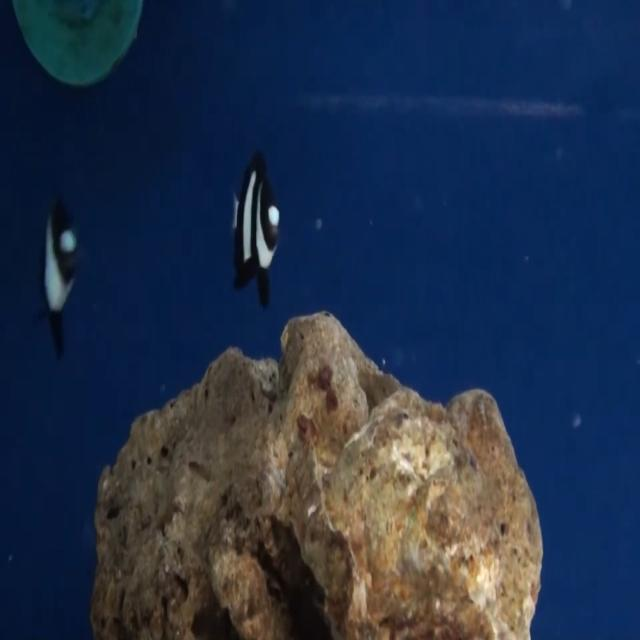ThreeStripedDamselfish: (225, 147, 283, 313)
